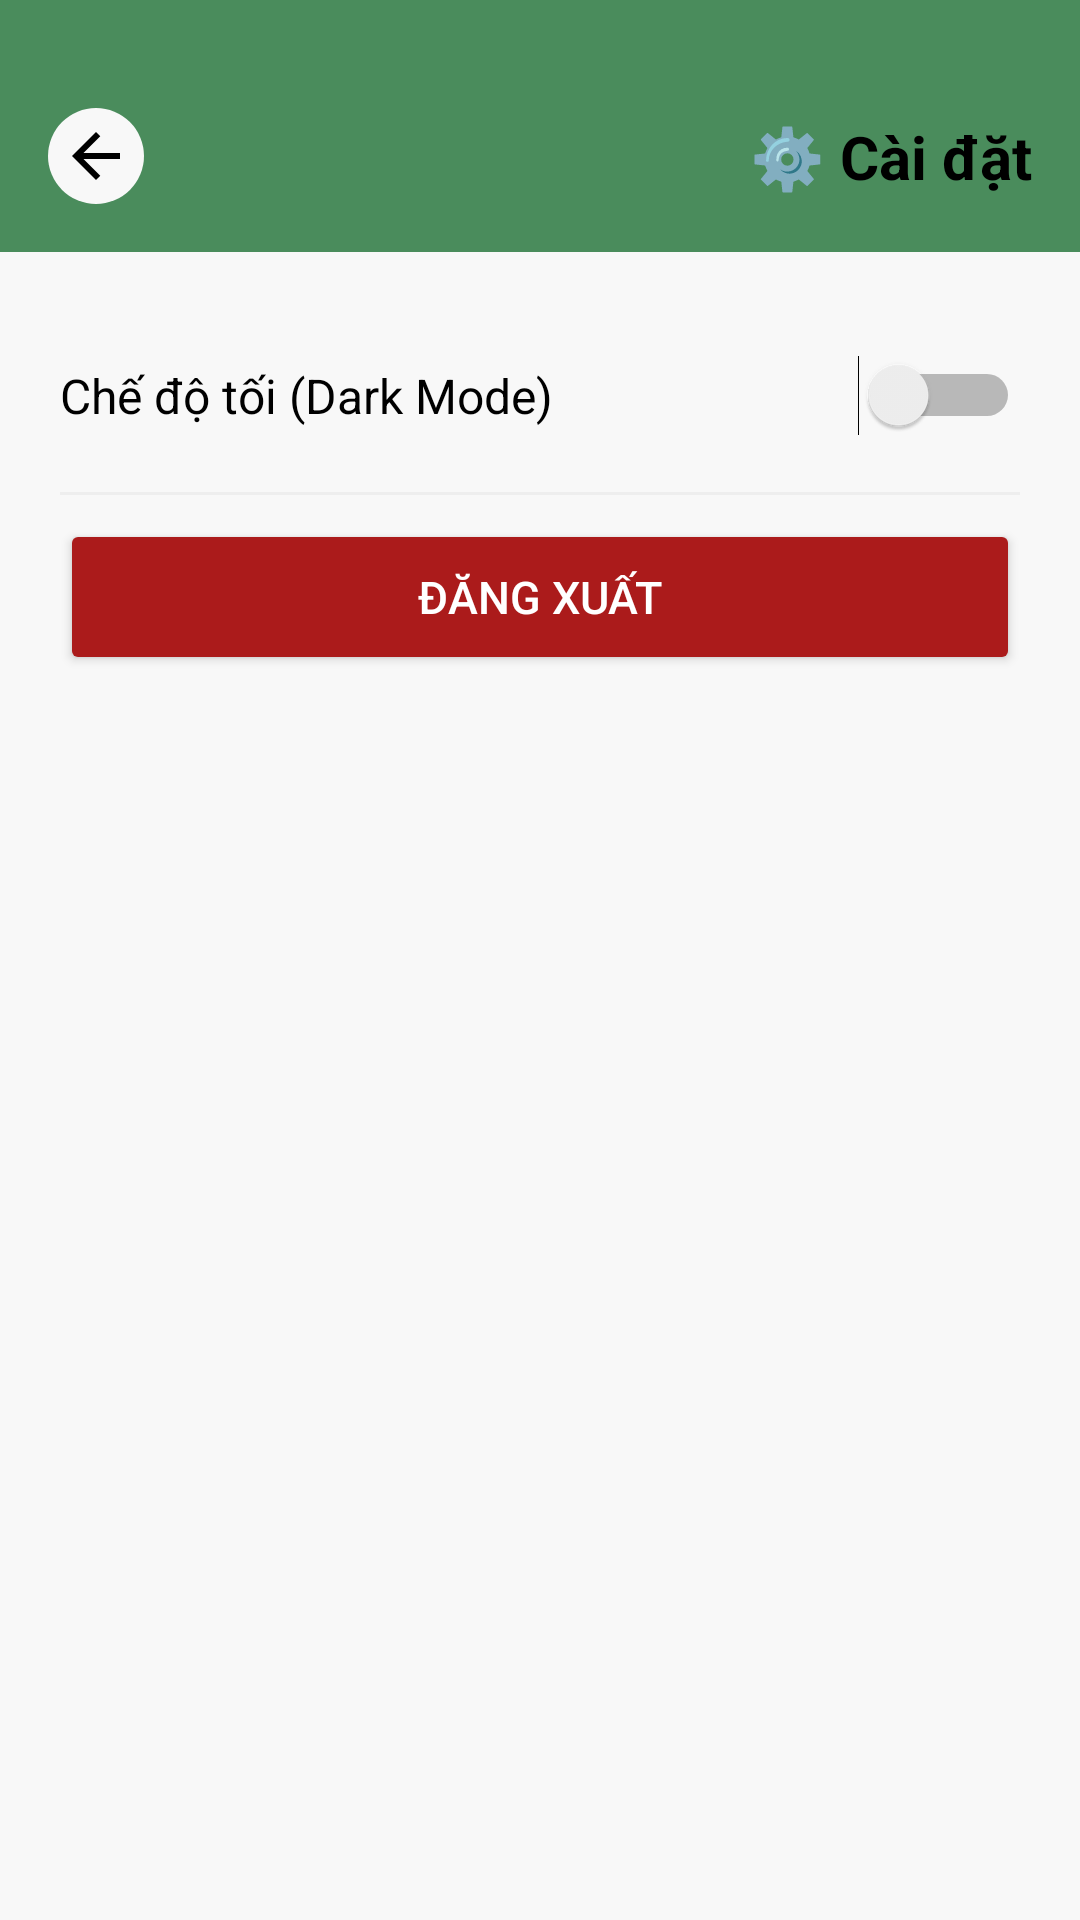

Icons on this 1080w x 1920h Android screen, each with the point to tap as (x=x, y=y):
arrow back: (x=96, y=156)
